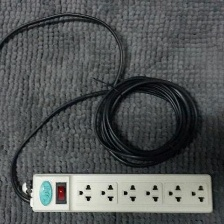three_eye_plug: (25, 169, 217, 216)
